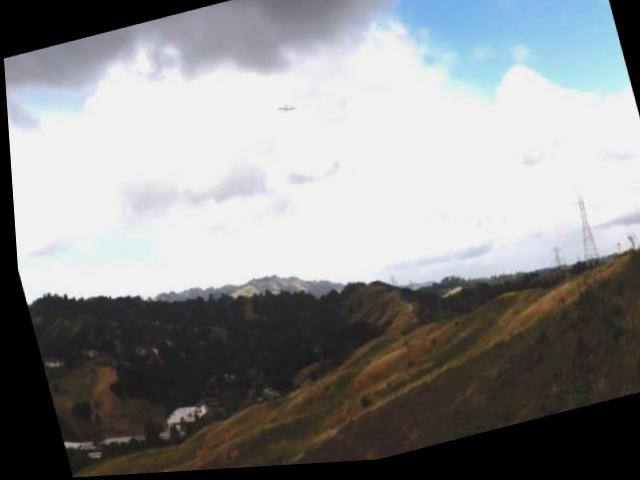iha: (273, 99, 298, 119)
